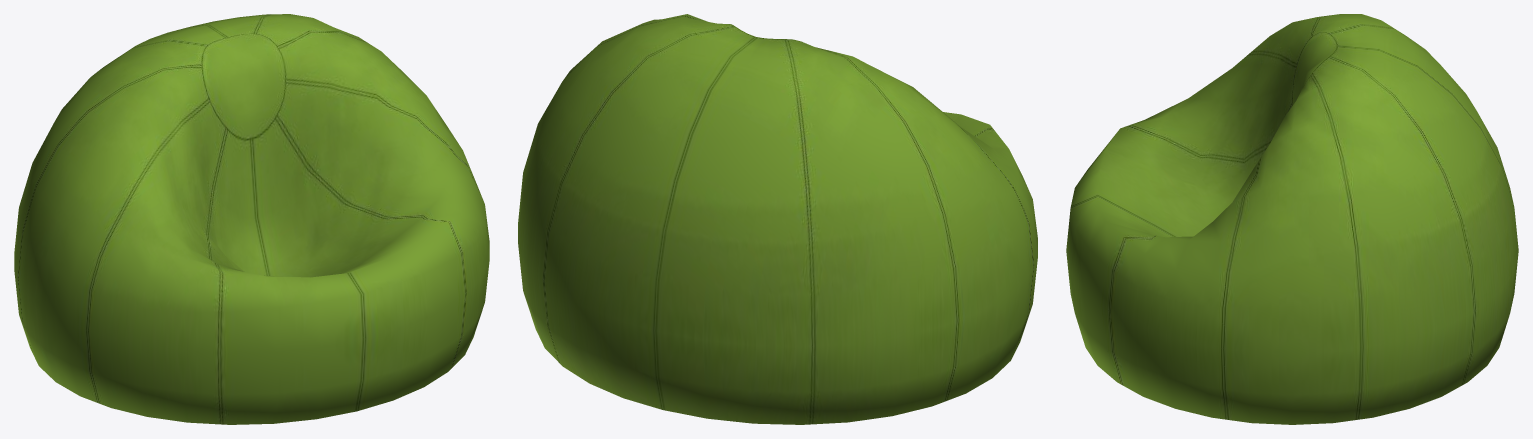
Rendered from sh_scopia_puff.glb.
3 views of the same model, side by side, from view 1: azimuth 30°, elevation 25°; view 2: azimuth 150°, elevation 25°; view 3: azimuth 270°, elevation 25° (orthographic). The views are drawn at different scales.
Bounding box in the file's own units: 0.913 × 0.603 × 0.848.
1 material, 1 textured.
